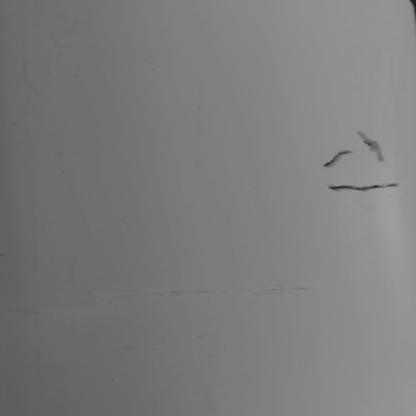fengxi: (325, 181, 400, 191), (358, 131, 383, 160), (325, 150, 351, 167)
